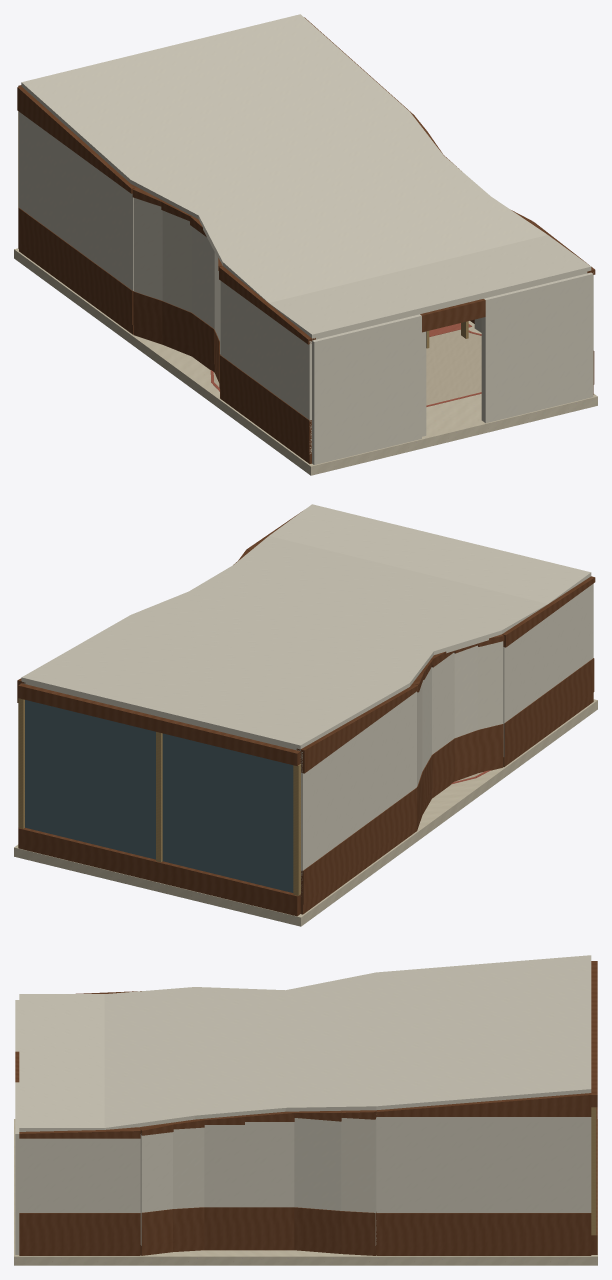
File: shell.glb
3 views of the same model, one above another, from view 1: azimuth 30°, elevation 25°; view 2: azimuth 150°, elevation 25°; view 3: azimuth 270°, elevation 25° (orthographic).
Visible parts, largest first — view 1: FT_Runtime_ivory_enamel, FT_Runtime_warm_walnut, FT_Runtime_warm_stone, FT_Runtime_oatmeal_weave; view 2: FT_Runtime_ivory_enamel, FT_Runtime_FT_SourceDirectionalPrivacy_NOT_RUNTIME_ACCEPTED, FT_Runtime_warm_walnut, FT_Runtime_warm_stone, FT_Runtime_champagne_metal; view 3: FT_Runtime_ivory_enamel, FT_Runtime_warm_walnut, FT_Runtime_warm_stone, FT_Runtime_champagne_metal.
Boxes of the visible parts, <box> form: FT_Runtime_ivory_enamel: <box>19,14,593,464</box>; FT_Runtime_warm_walnut: <box>17,17,595,463</box>; FT_Runtime_warm_stone: <box>14,248,597,475</box>; FT_Runtime_oatmeal_weave: <box>213,329,481,405</box>; FT_Runtime_ivory_enamel: <box>21,504,593,885</box>; FT_Runtime_FT_SourceDirectionalPrivacy_NOT_RUNTIME_ACCEPTED: <box>25,700,293,892</box>; FT_Runtime_warm_walnut: <box>17,511,595,916</box>; FT_Runtime_warm_stone: <box>14,699,597,926</box>; FT_Runtime_champagne_metal: <box>18,698,300,895</box>; FT_Runtime_ivory_enamel: <box>15,955,591,1254</box>; FT_Runtime_warm_walnut: <box>15,961,597,1255</box>; FT_Runtime_warm_stone: <box>14,1119,597,1265</box>; FT_Runtime_champagne_metal: <box>591,1107,596,1235</box>.
Size of the model in its own units: 7.2 by 4.26 by 12.9.
Materials: 8 (6 with a texture image).
